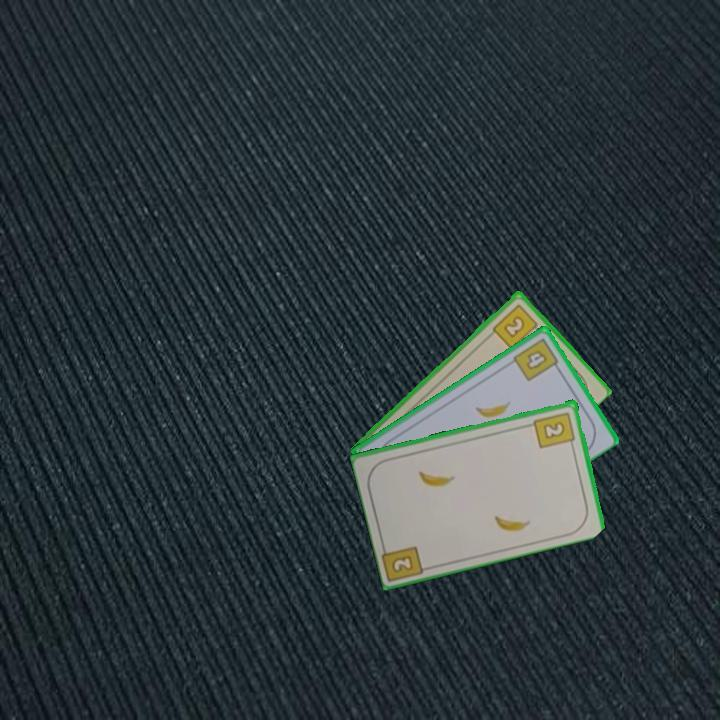2b: (489, 300, 543, 351), (531, 408, 578, 451), (388, 551, 417, 575)
4b: (509, 334, 563, 384)
